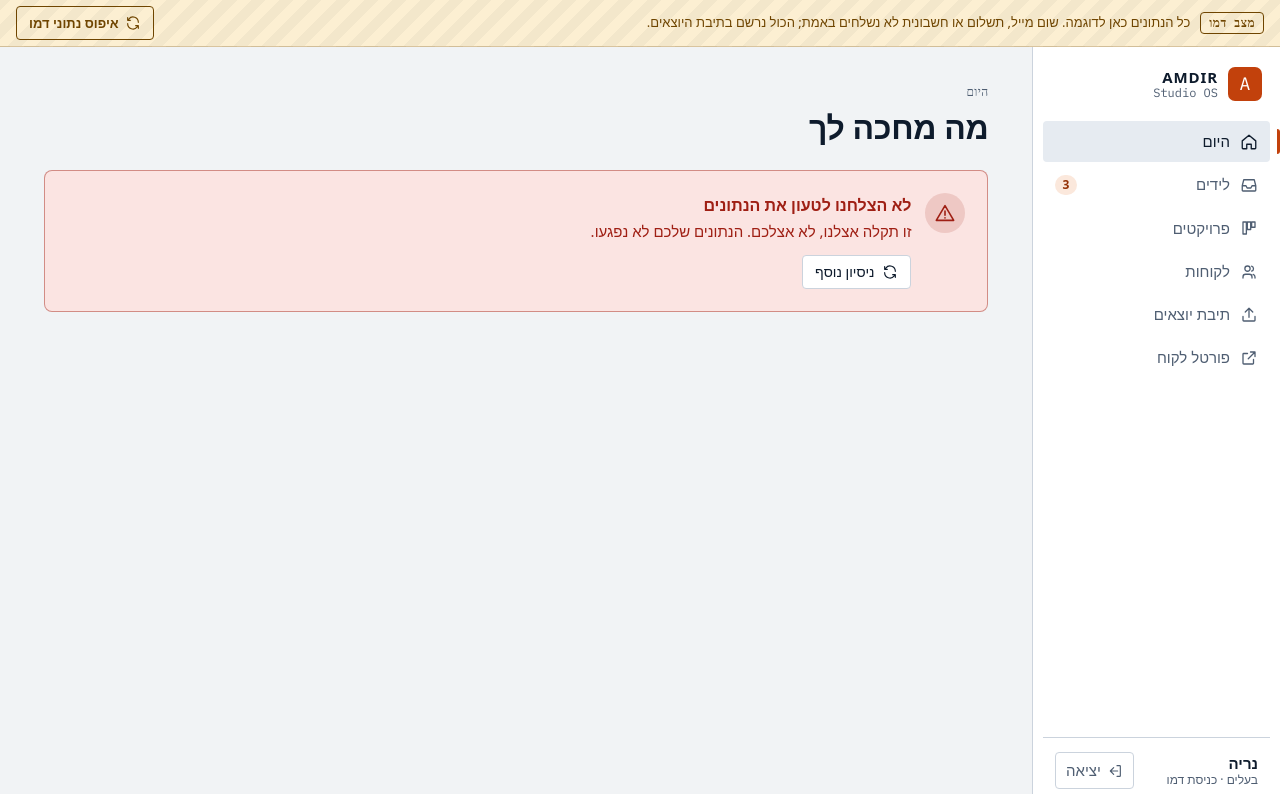
it: dashboard › shows a retryable error state when loading fails
The image size is (1280, 794).
Expected: the message shows "לא הצלחנו לטעון את הנתונים", [703,194,912,216]
Click the button "ניסיון נוסף" at (857, 272), box [802,255,912,289]
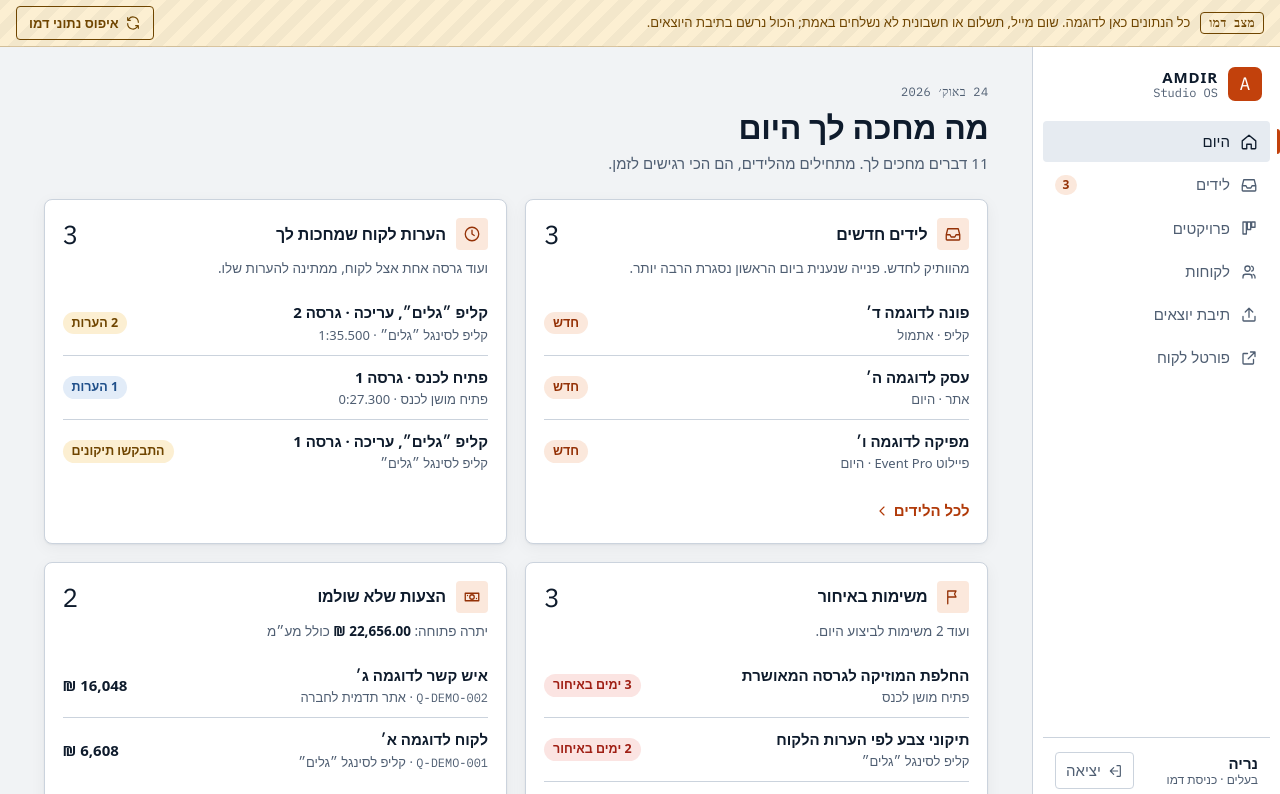
Now the element "לידים חדשים" is shown, box [525,199,988,544]
